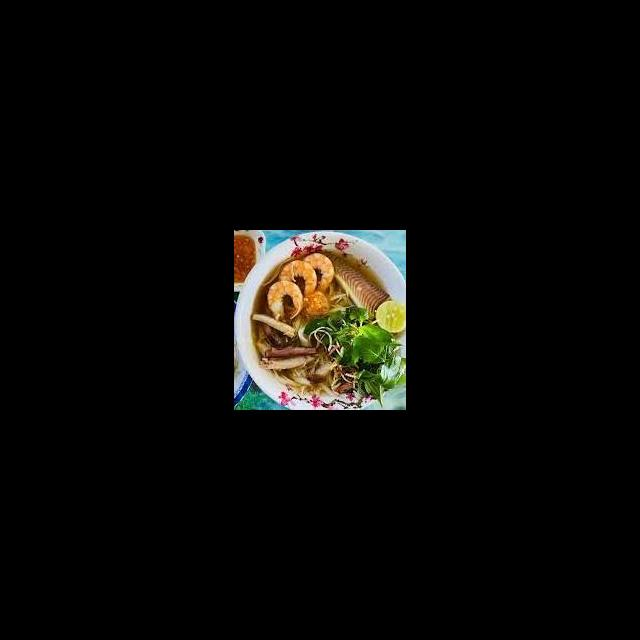ca: (316, 246, 394, 322)
thit heo quay: (251, 310, 297, 339), (257, 352, 317, 373), (261, 343, 319, 359)
tom: (277, 257, 318, 302), (265, 279, 304, 322), (301, 249, 335, 294)
